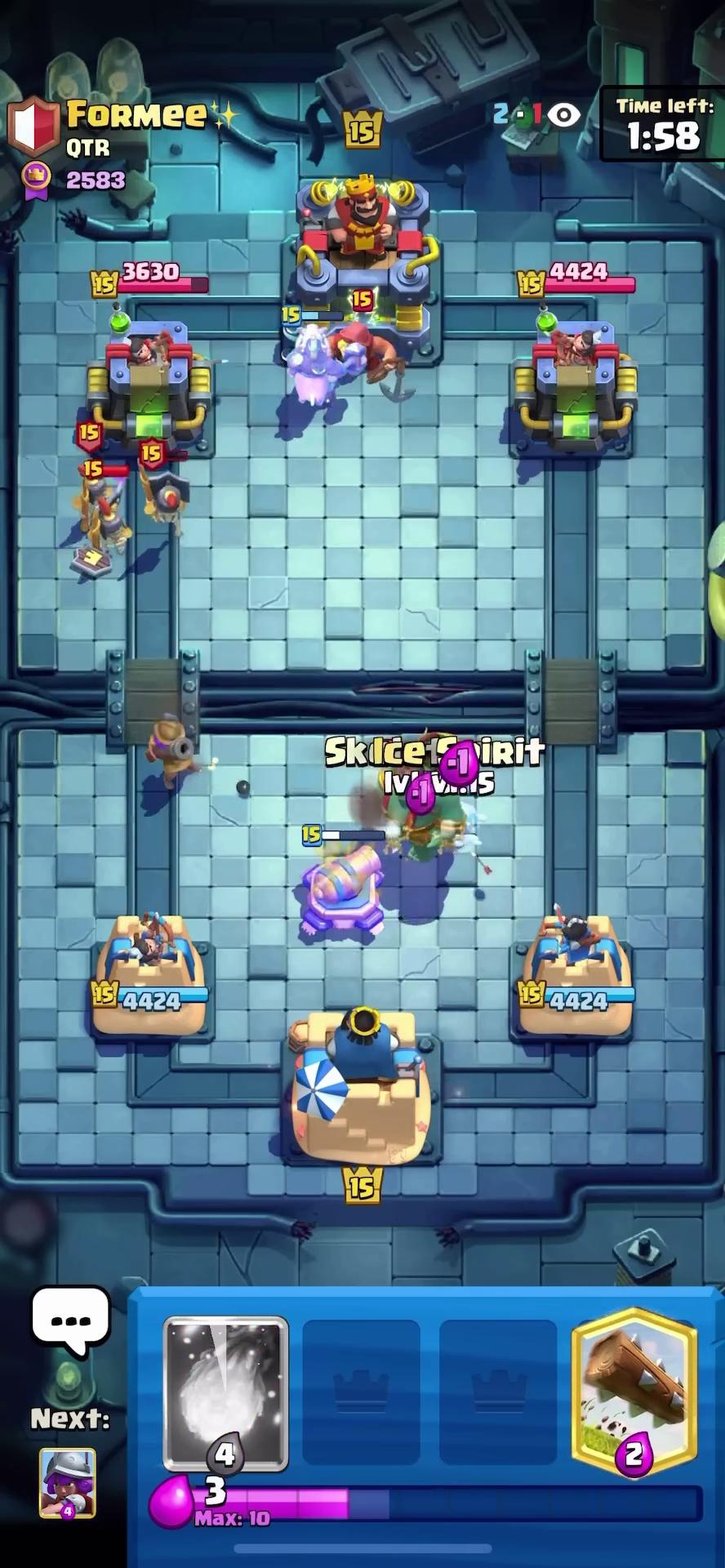cannon: (280, 825, 400, 949)
hog_rider: (271, 310, 363, 414)
musketeer: (118, 708, 214, 782)
